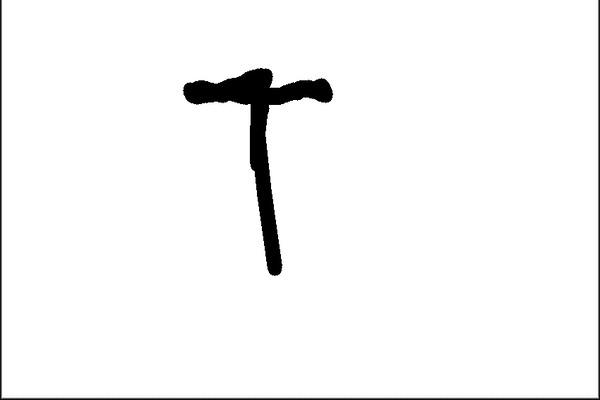T: (170, 58, 344, 281)
